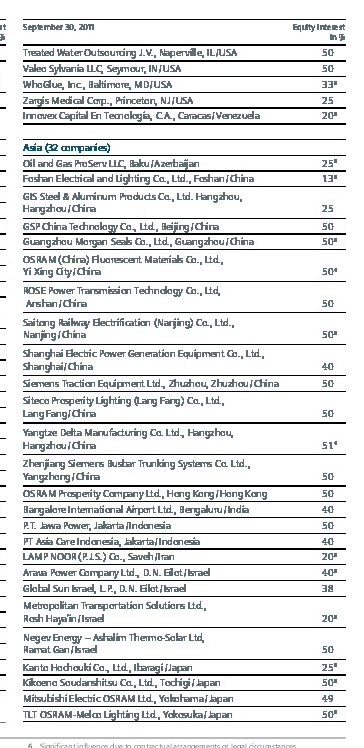table: (0, 0, 364, 748)
